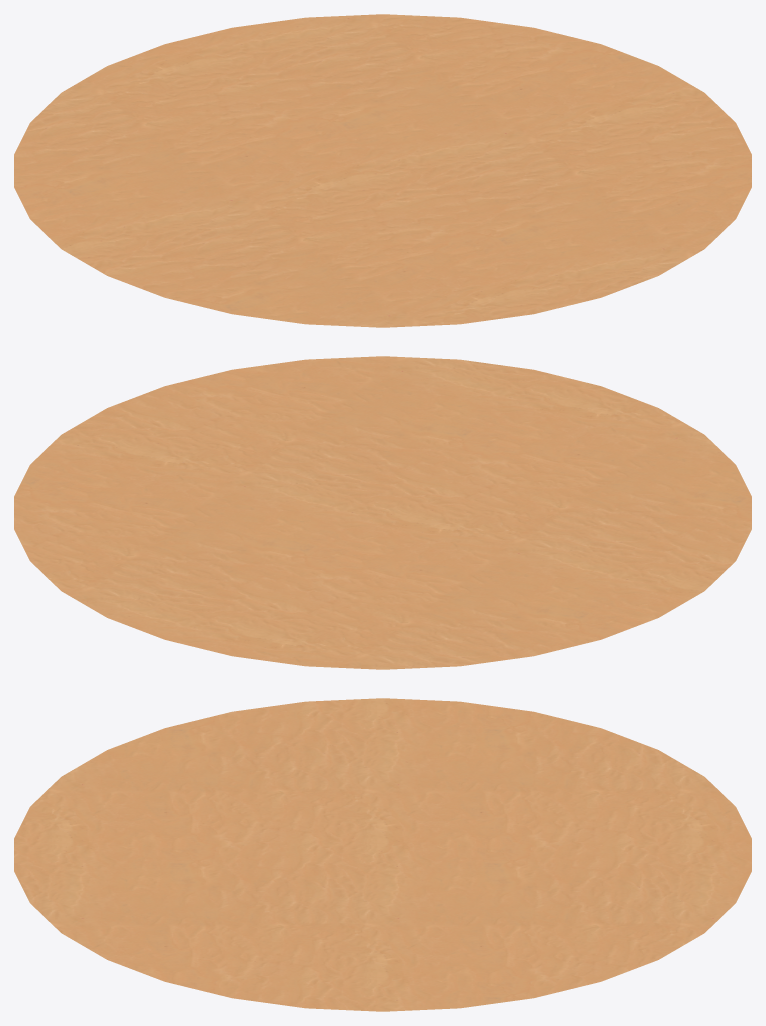
File: PBR - Metallic Roughness.glb
3 renders of one model, top to bottom at view 1: azimuth 30°, elevation 25°; view 2: azimuth 150°, elevation 25°; view 3: azimuth 270°, elevation 25°, orthographic.
Parts seen in each view (by area): view 1: floor; view 2: floor; view 3: floor.
Boxes of the visible parts, x1=… form: floor: x1=14, y1=14, x2=751, y2=327; floor: x1=14, y1=356, x2=751, y2=669; floor: x1=14, y1=698, x2=751, y2=1011.
Size of the model in its own units: 694 by 0 by 690.
Materials: 1 (1 with a texture image).
